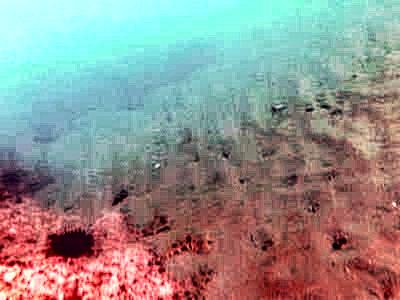urchin: (46, 228, 94, 256)
